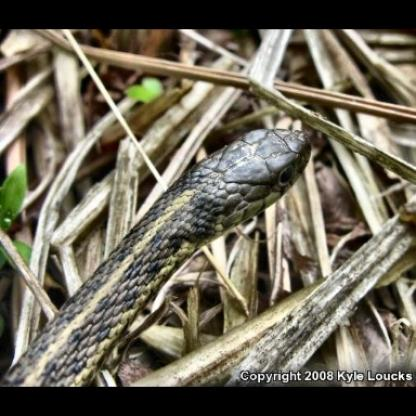Snake: (10, 124, 310, 382)
